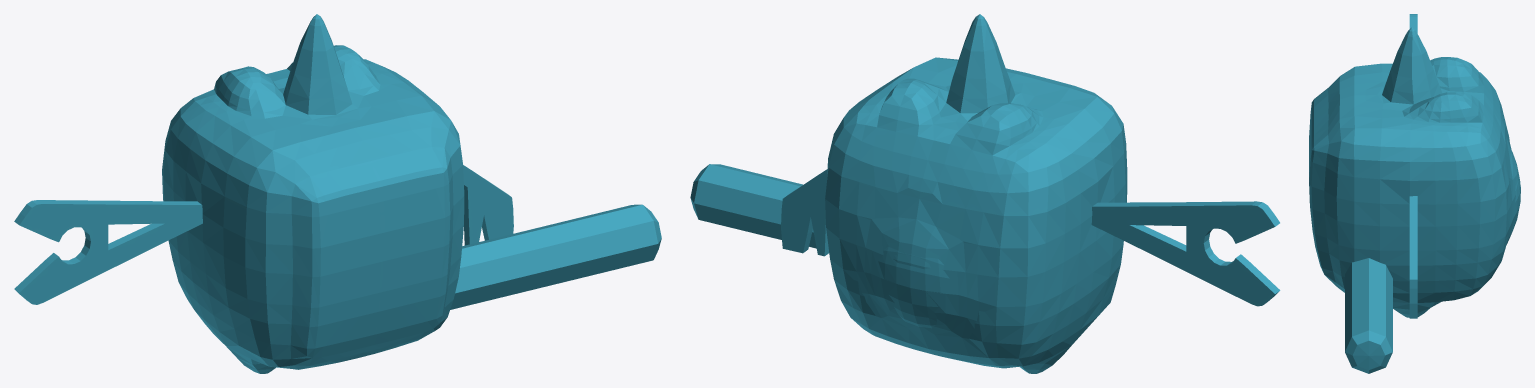
The model's file is XY_RotomWash.fbx.
The picture shows the model from 3 angles, left to right: view 1: azimuth 30°, elevation 25°; view 2: azimuth 150°, elevation 25°; view 3: azimuth 270°, elevation 25°; orthographic projection. The views are drawn at different scales.
Parts seen in each view (by area): view 1: RotomWashA; view 2: RotomWashA, RotomWashB; view 3: RotomWashA, RotomWashB.
Part boxes in pixels (bbox=[...]): RotomWashA: bbox=[14, 14, 661, 373]; RotomWashA: bbox=[690, 14, 1280, 373]; RotomWashB: bbox=[839, 179, 1003, 357]; RotomWashA: bbox=[1309, 14, 1520, 373]; RotomWashB: bbox=[1491, 124, 1520, 277].
Bounding box in the file's own units: 62.34 × 33.93 × 24.16.
Materials: 2 (2 with a texture image).
